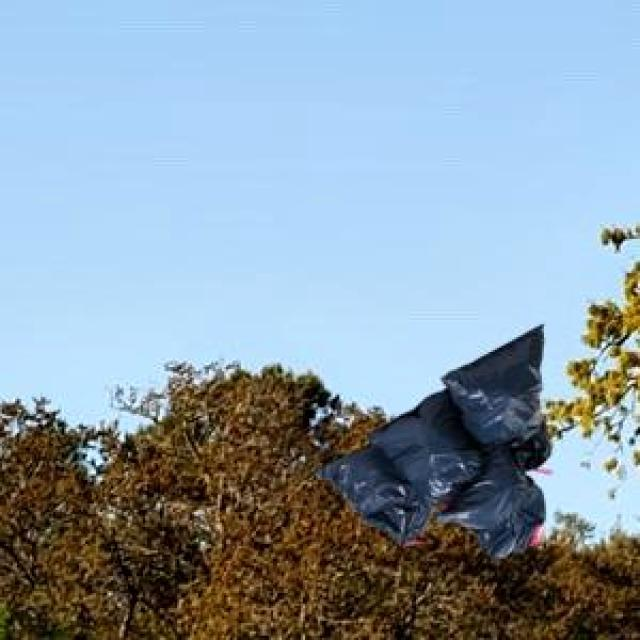Garbage_Bag: (312, 323, 550, 556)
